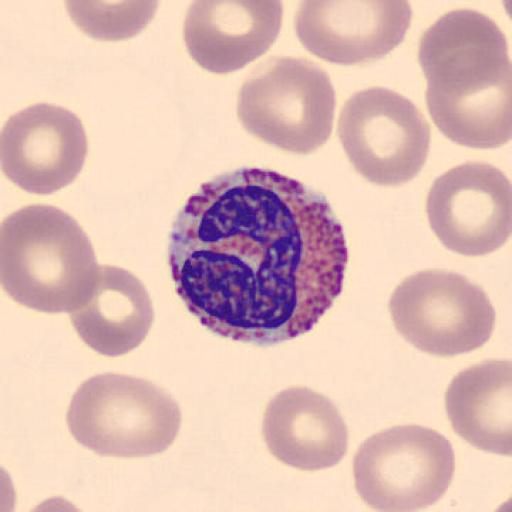RBC: (2, 201, 102, 315), (64, 369, 182, 460), (234, 54, 338, 156), (386, 266, 497, 360), (336, 84, 432, 188), (350, 421, 457, 512), (424, 47, 512, 152), (416, 6, 510, 104), (1, 99, 91, 197), (424, 158, 512, 258), (67, 262, 156, 359), (260, 384, 350, 474), (293, 0, 414, 66), (181, 0, 285, 76), (442, 356, 512, 456), (61, 0, 162, 42), (16, 493, 105, 512), (0, 460, 18, 512), (500, 0, 512, 56), (499, 0, 512, 39)
WBC: (166, 164, 350, 347)
